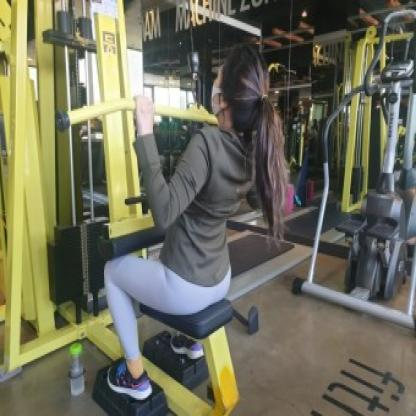Lat Pull Down: (0, 0, 278, 416)
